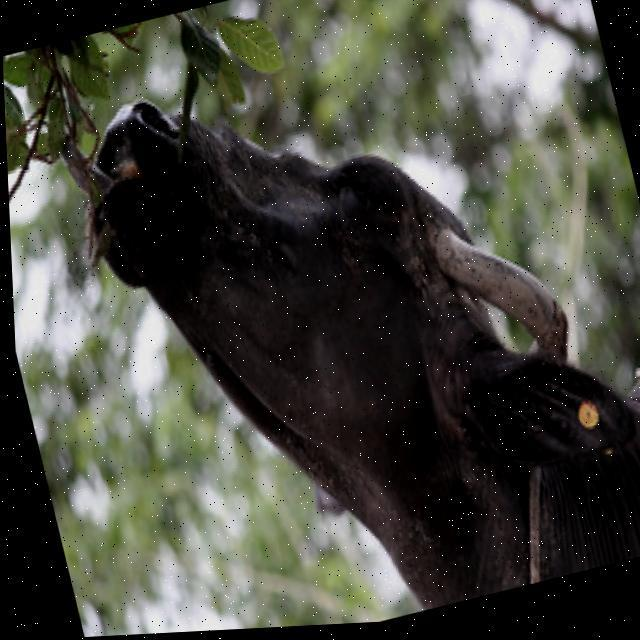Buffalo: (54, 0, 640, 637)
